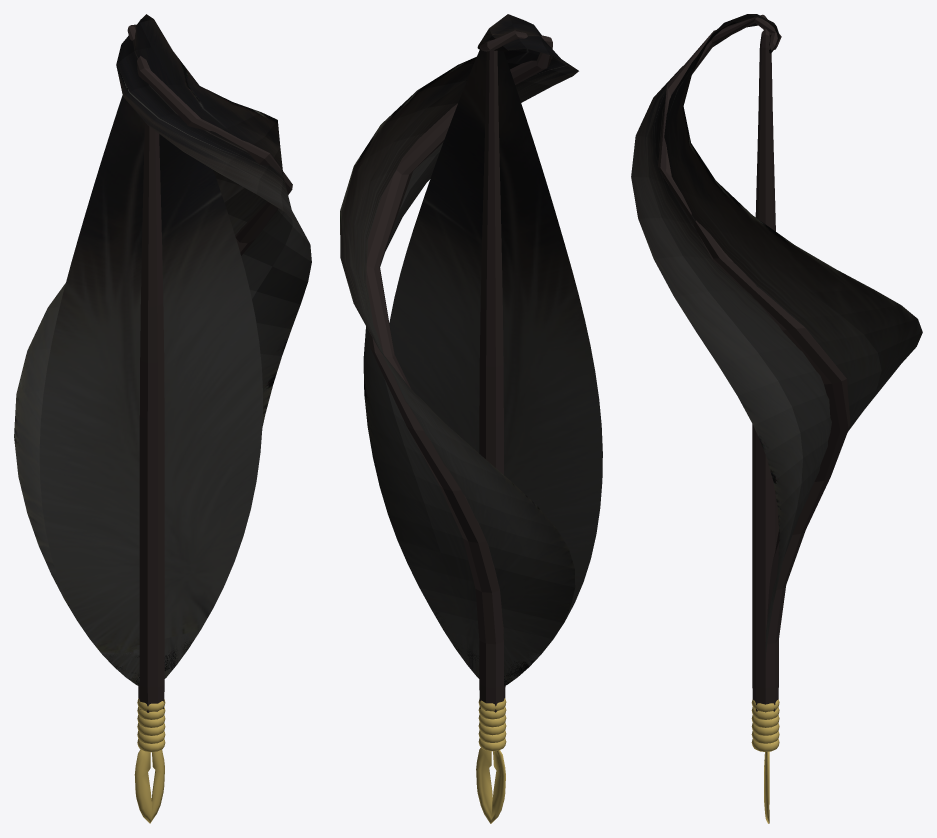
Rendered from quill.fbx.
3 renders of one model, left to right at view 1: azimuth 30°, elevation 25°; view 2: azimuth 150°, elevation 25°; view 3: azimuth 270°, elevation 25°, orthographic.
Parts seen in each view (by area): view 1: Cube.001, Cube.002, Plane; view 2: Cube.001, Cube.002, Plane; view 3: Cube.002, Cube.001, Plane.
Part boxes in pixels (bbox=[...]): Cube.001: bbox=[39, 95, 262, 711]; Cube.002: bbox=[14, 14, 311, 712]; Plane: bbox=[134, 698, 165, 823]; Cube.001: bbox=[389, 49, 602, 711]; Cube.002: bbox=[340, 14, 578, 712]; Plane: bbox=[476, 698, 506, 823]; Cube.002: bbox=[631, 14, 922, 712]; Cube.001: bbox=[752, 28, 778, 682]; Plane: bbox=[751, 699, 779, 823].
Bounding box in the file's own units: 72.34 × 228 × 74.69.
